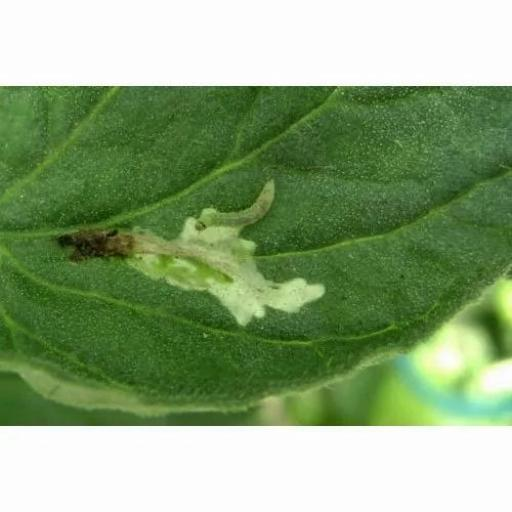Leaf Miner: (0, 84, 512, 412)
